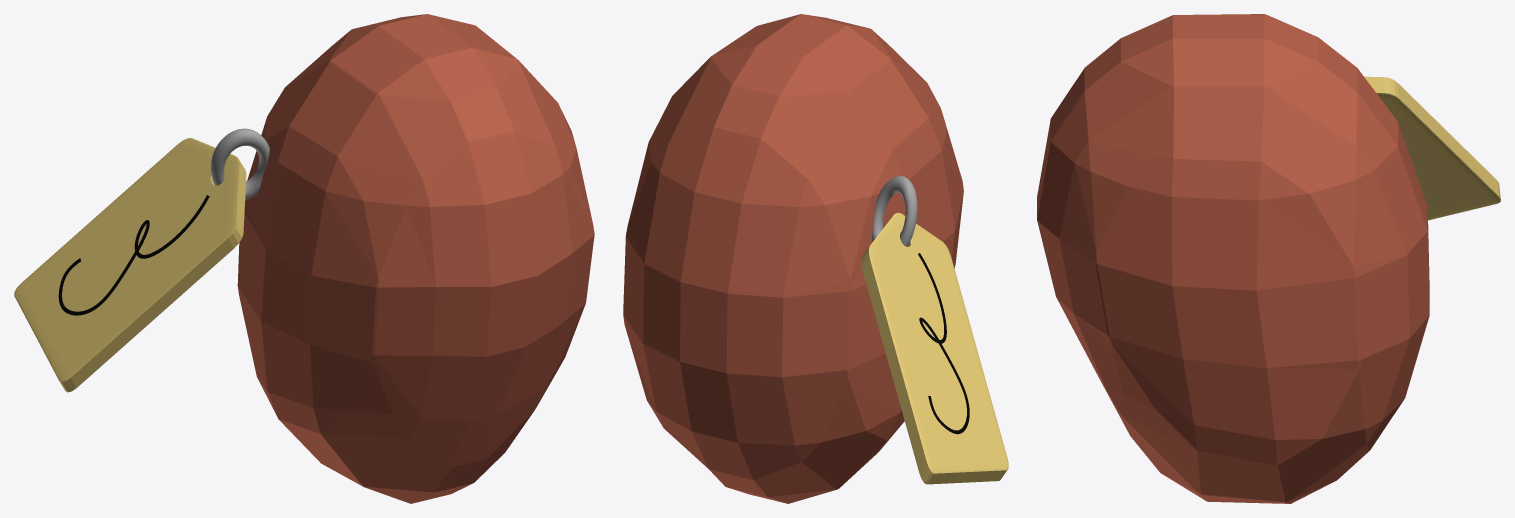
Rendered from SmolDedPeanut.fbx.
The picture shows the model from 3 angles, left to right: view 1: azimuth 30°, elevation 25°; view 2: azimuth 150°, elevation 25°; view 3: azimuth 270°, elevation 25°; orthographic projection. The views are drawn at different scales.
Visible parts, largest first — view 1: Mball.001, Cube.001; view 2: Mball.001, Cube.001; view 3: Mball.001, Cube.001.
Boxes of the visible parts, left/top/right/bottom form: Mball.001: left=237, top=14, right=594, bottom=503; Cube.001: left=14, top=128, right=269, bottom=392; Mball.001: left=623, top=14, right=963, bottom=503; Cube.001: left=861, top=175, right=1008, bottom=484; Mball.001: left=1037, top=14, right=1429, bottom=503; Cube.001: left=1364, top=76, right=1500, bottom=220.
Bounding box in the file's own units: 198 × 202 × 182.
